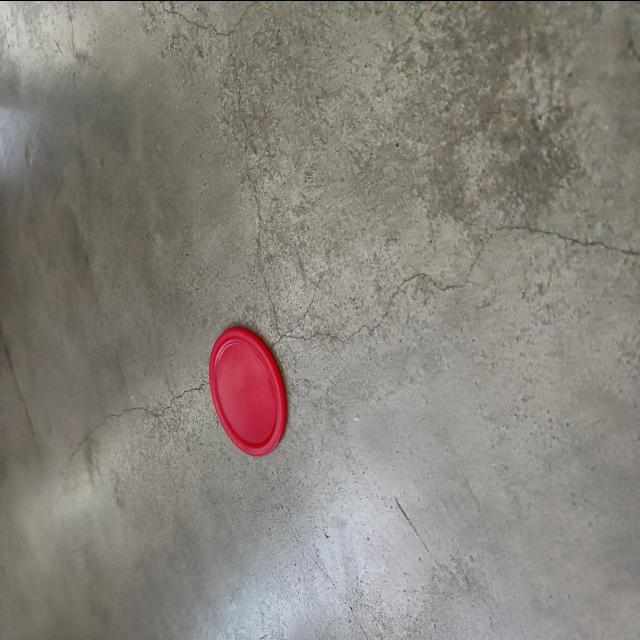chip: (205, 323, 288, 459)
